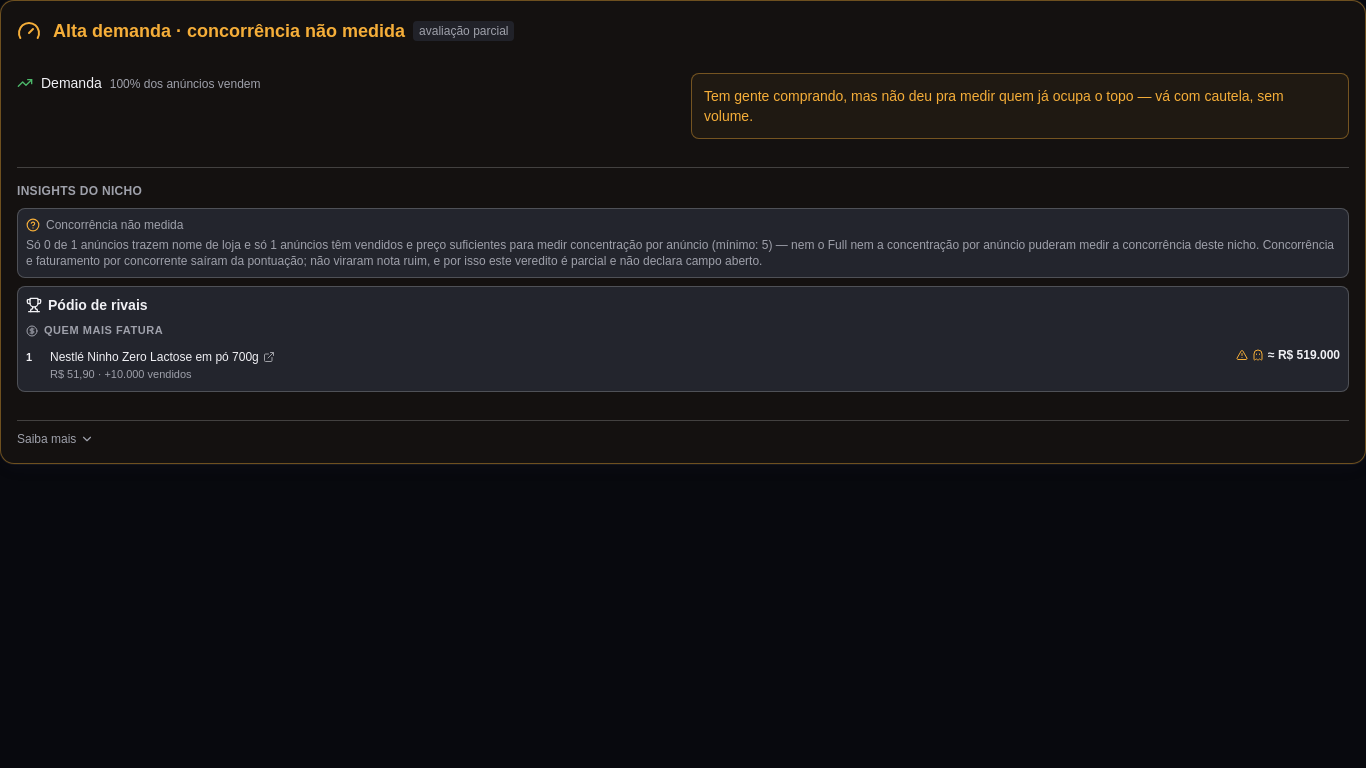
VereditoSonar — avisos do pódio (bug real 02/09: link abriu preço diferente) › rival com catalog_product_id ganha ícone clicável que revela o aviso de ficha de catálogo
The image size is (1366, 768).
What coordinates should you click on to do the following:
click the button named "ficha de catálogo"
I would click on:
 (1242, 355)
Its box is x1=1236 y1=349 x2=1248 y2=361.
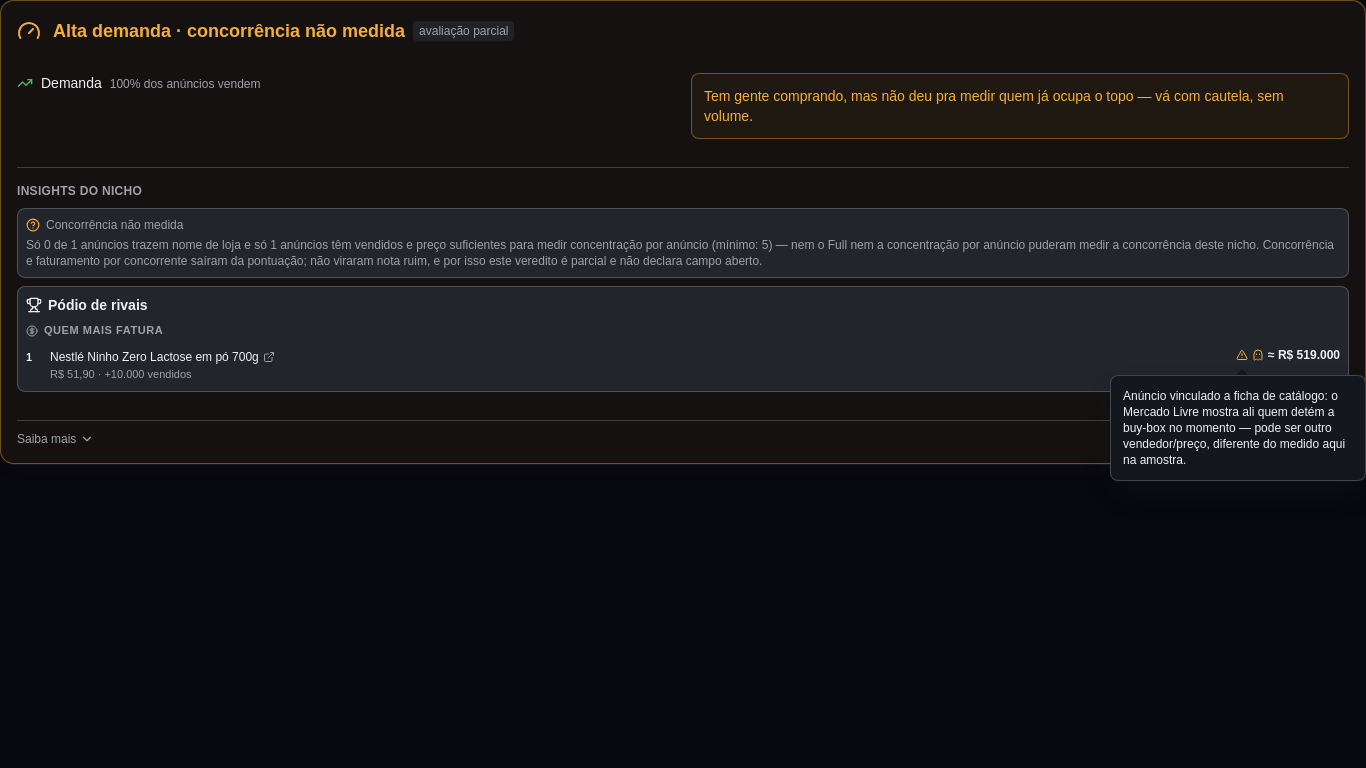
expect the text "pode ser outro vendedor/preço" is shown: met, box x1=1123 y1=389 x2=1345 y2=467
